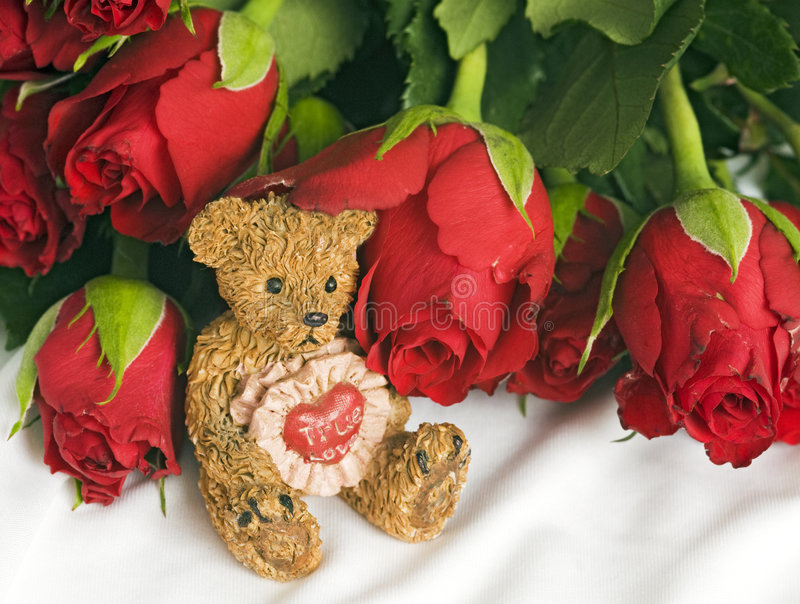RedRose: (309, 141, 536, 391), (589, 183, 800, 427), (70, 18, 286, 214), (28, 267, 223, 482), (0, 81, 92, 246), (516, 183, 633, 289), (0, 0, 192, 56), (522, 320, 630, 394)
